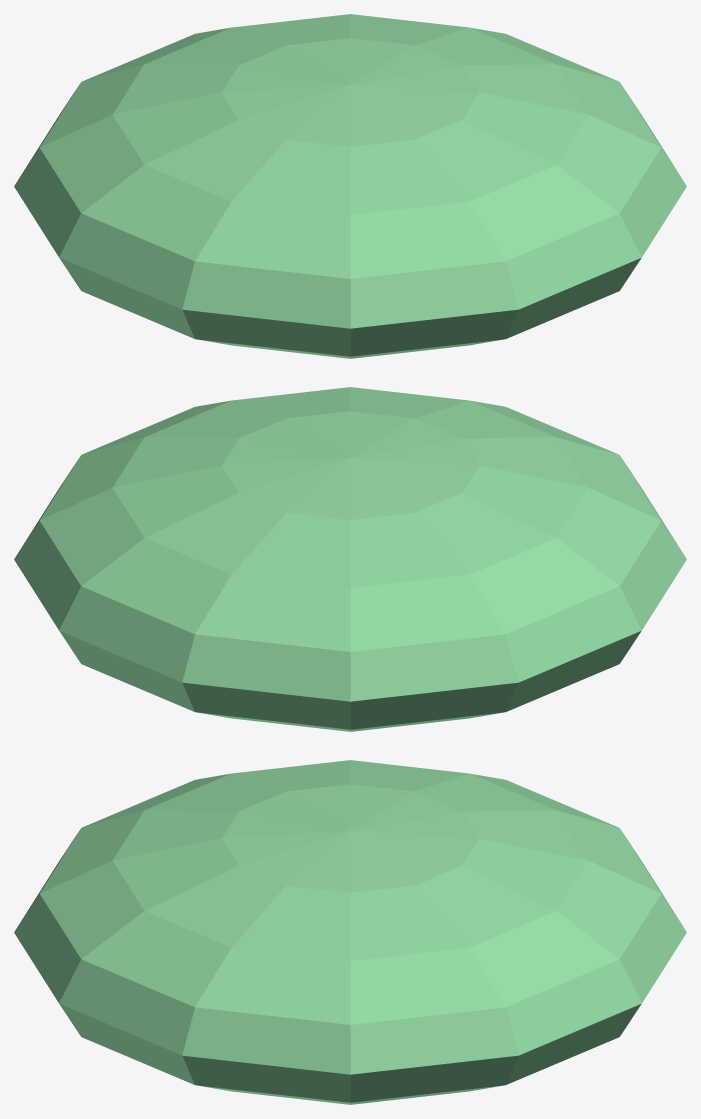
The model's file is slime_torso.fbx.
The picture shows the model from 3 angles, top to bottom: view 1: azimuth 30°, elevation 25°; view 2: azimuth 150°, elevation 25°; view 3: azimuth 270°, elevation 25°; orthographic projection.
Visible parts, largest first — view 1: slime_torso_geo; view 2: slime_torso_geo; view 3: slime_torso_geo.
Boxes of the visible parts, x1,y1,x2,y2 form: slime_torso_geo: (14,14,686,358); slime_torso_geo: (14,387,686,731); slime_torso_geo: (14,760,686,1104).
Bounding box in the file's own units: 105 × 35 × 105.
